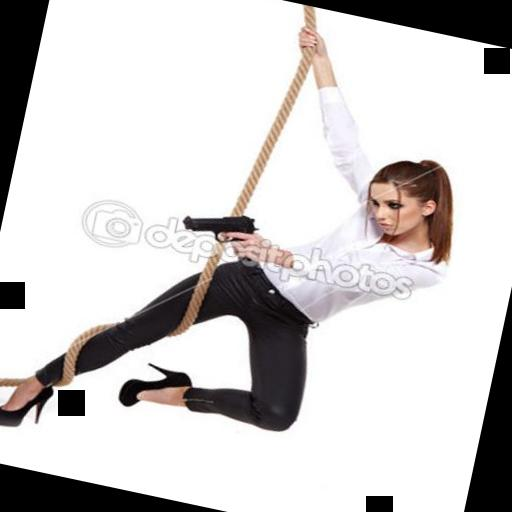Handgun: (168, 195, 268, 271)
